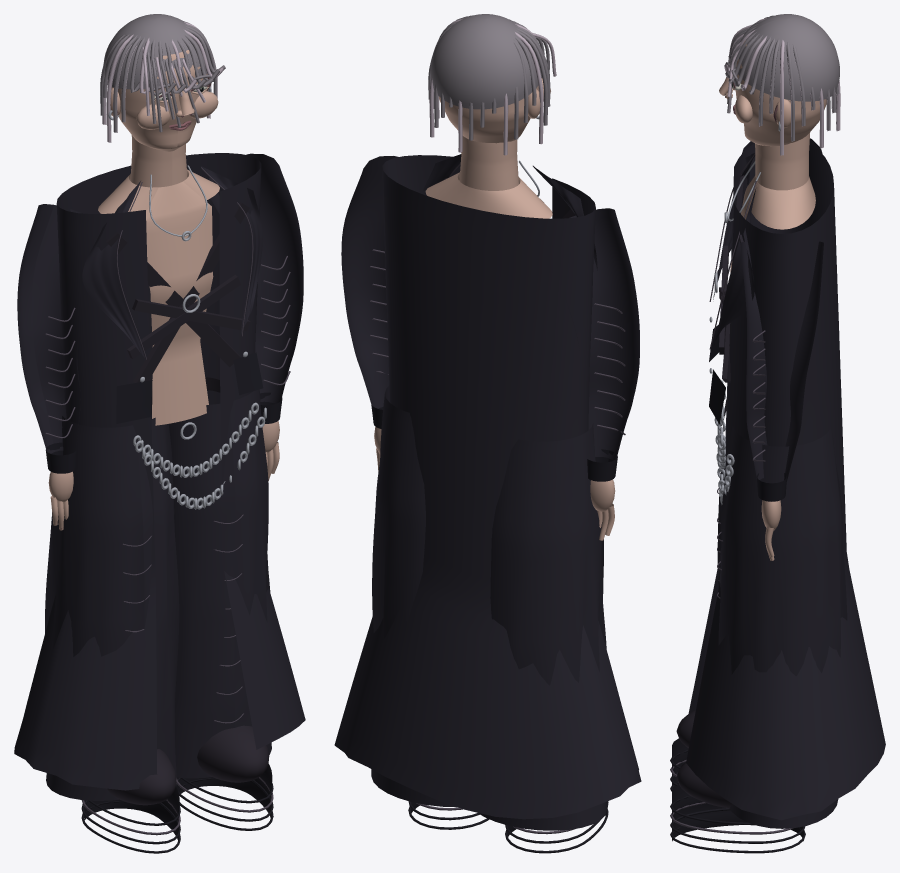
The model's file is look-5-detail.glb.
The picture shows the model from 3 angles, left to right: view 1: azimuth 30°, elevation 25°; view 2: azimuth 150°, elevation 25°; view 3: azimuth 270°, elevation 25°; orthographic projection. The views are drawn at different scales.
Parts seen in each view (by area): view 1: look-5-detail, leg-1, leg-0, arm-0, arm-1; view 2: look-5-detail, leg-0, arm-0, leg-1, arm-1; view 3: look-5-detail, leg-1, arm-1, leg-0.
Part boxes in pixels (box(x1,y1,x2,y2)): look-5-detail: box(14, 14, 305, 790); leg-1: box(151, 389, 273, 830); leg-0: box(45, 391, 180, 853); arm-0: box(17, 204, 83, 530); arm-1: box(208, 153, 303, 480); look-5-detail: box(334, 14, 641, 819); leg-0: box(478, 423, 608, 853); arm-0: box(568, 208, 639, 540); leg-1: box(371, 386, 489, 829); arm-1: box(341, 156, 437, 471); look-5-detail: box(686, 14, 885, 820); leg-1: box(670, 426, 847, 853); arm-1: box(740, 241, 823, 560); leg-0: box(670, 454, 725, 791).
Bounding box in the file's own units: 0.7547 × 2.04 × 0.4997.
